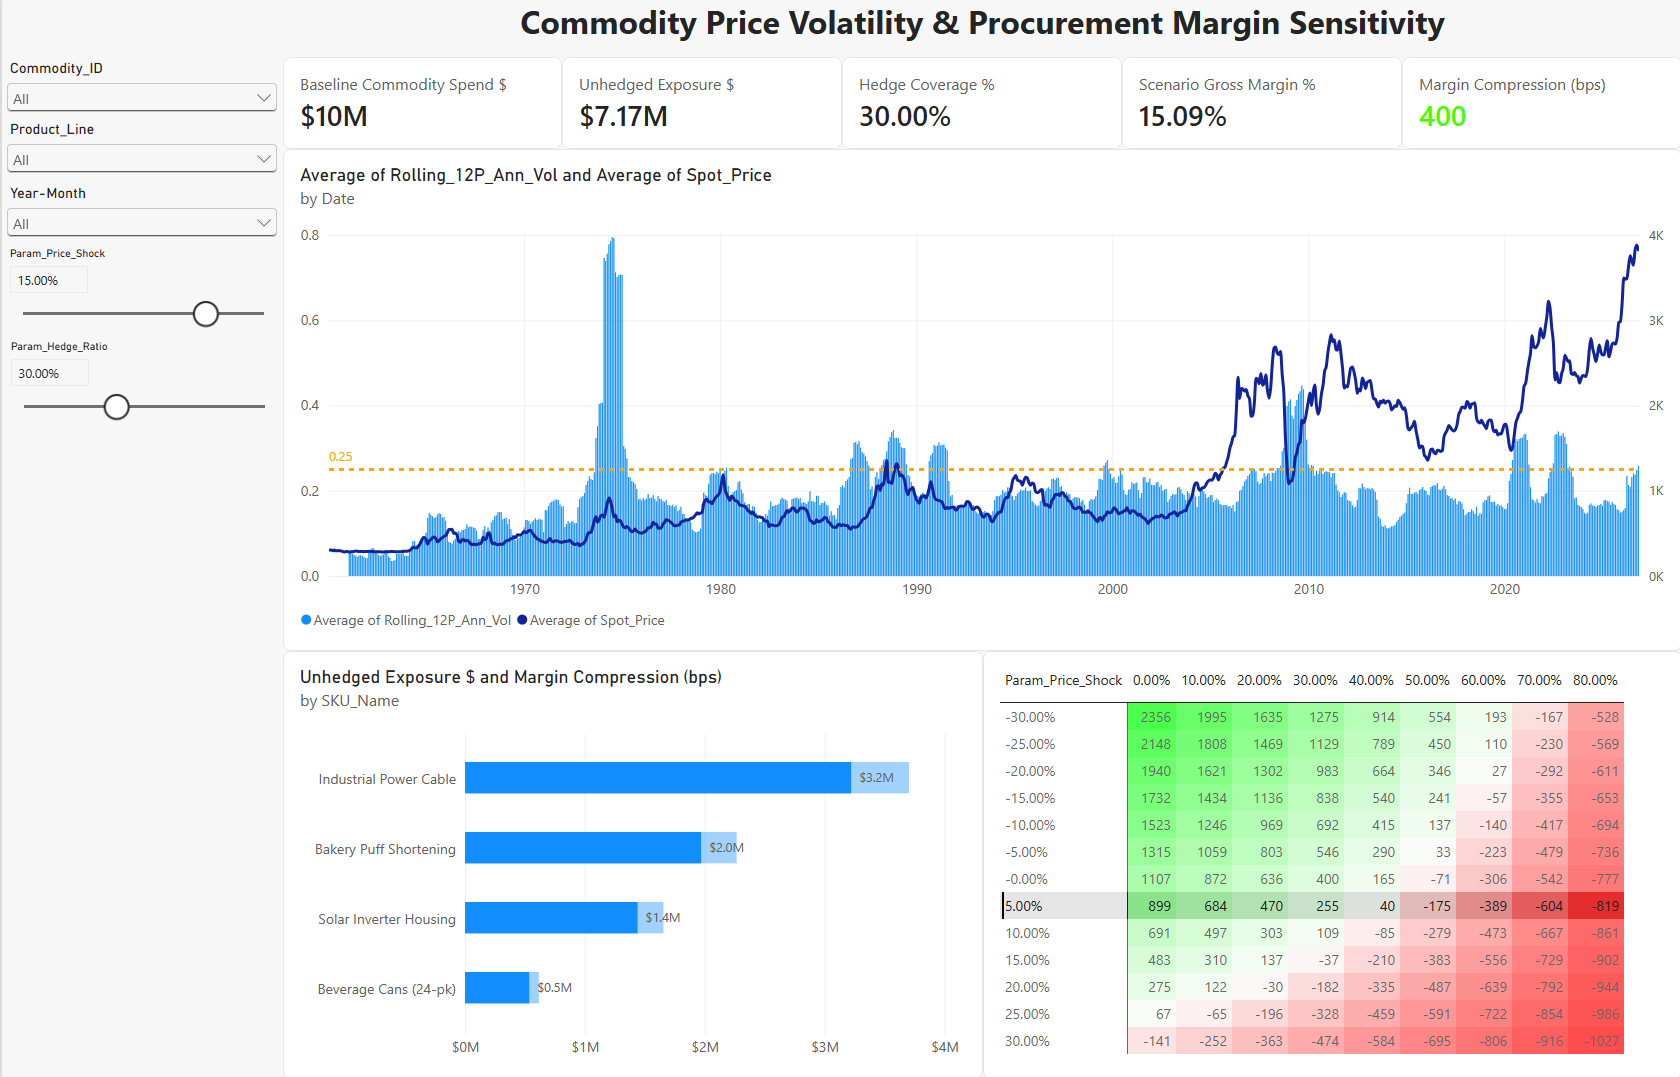

The dashboard page shown, as its layout file describes it:
{"tool":"powerbi","page":{"name":"Page 1","canvas":[1920,1080],"ordinal":0},"visuals":[{"type":"slicer","fields":{"Values":["Dim_Commodity.Commodity_ID"]},"box":[0,60.9,279.8,60.9],"z":2000},{"type":"slicer","fields":{"Values":["Dim_SKU.Product_Line"]},"box":[0,121.7,279.8,63.8],"z":3000},{"type":"slicer","fields":{"Values":["Dim_Date.Year-Month"]},"box":[0,185.5,279.8,62.8],"z":4000},{"type":"slicer","fields":{"Values":["Param_Price_Shock.Param_Price_Shock"]},"box":[0,248.3,279.8,92.3],"z":5000},{"type":"slicer","fields":{"Values":["Param_Hedge_Ratio.Param_Hedge_Ratio"]},"box":[1,340.6,279.8,124.7],"z":6000},{"type":"cardVisual","fields":{"Data":["_Measure.Baseline Commodity Spend $"]},"box":[280.7,57.9,279.8,92.3],"z":7000},{"type":"cardVisual","fields":{"Data":["_Measure.Unhedged Exposure $"]},"box":[560.5,57.9,279.8,92.3],"z":8000},{"type":"cardVisual","fields":{"Data":["_Measure.Hedge Coverage %"]},"box":[840.2,57.9,279.8,92.3],"z":9000},{"type":"cardVisual","fields":{"Data":["_Measure.Scenario Gross Margin %"]},"box":[1120,57.9,279.8,92.3],"z":10000},{"type":"cardVisual","fields":{"Data":["_Measure.Margin Compression (bps)"]},"box":[1399.8,57.9,279.8,92.3],"z":11000},{"type":"lineClusteredColumnComboChart","fields":{"Category":["Dim_Date.Date"],"Y":["Avg(Fact_Prices.Rolling_12P_Ann_Vol)"],"Y2":["Avg(Fact_Prices.Spot_Price)"]},"box":[280.7,150.2,1398.8,501.6],"z":12000},{"type":"clusteredBarChart","fields":{"Category":["Dim_SKU.SKU_Name"],"Y":["_Measure.Unhedged Exposure $"]},"box":[280.7,651.8,699.9,428],"z":13000},{"type":"pivotTable","fields":{"Columns":["Param_Hedge_Ratio.Param_Hedge_Ratio"],"Rows":["Param_Price_Shock.Param_Price_Shock"],"Values":["_Measure.Margin Compression (bps)"]},"box":[980.6,651.8,698.9,428],"z":14000},{"type":"textbox","box":[280.7,0,1398.8,57.9],"z":14001}]}

Visuals, with their boxes on the page's 1920x1080 design canvas (x1, y1, x2, y2). These are canvas units, not pixel positions in the 1680x1077 screenshot, which may show the page scaled, cropped or inside an application window:
slicer - Dim_Commodity.Commodity_ID: 0 61 280 122
slicer - Dim_SKU.Product_Line: 0 122 280 186
slicer - Dim_Date.Year-Month: 0 186 280 248
slicer - Param_Price_Shock.Param_Price_Shock: 0 248 280 341
slicer - Param_Hedge_Ratio.Param_Hedge_Ratio: 1 341 281 465
cardVisual - _Measure.Baseline Commodity Spend $: 281 58 560 150
cardVisual - _Measure.Unhedged Exposure $: 560 58 840 150
cardVisual - _Measure.Hedge Coverage %: 840 58 1120 150
cardVisual - _Measure.Scenario Gross Margin %: 1120 58 1400 150
cardVisual - _Measure.Margin Compression (bps): 1400 58 1680 150
lineClusteredColumnComboChart - Dim_Date.Date x Avg(Fact_Prices.Rolling_12P_Ann_Vol): 281 150 1680 652
clusteredBarChart - Dim_SKU.SKU_Name x _Measure.Unhedged Exposure $: 281 652 981 1080
pivotTable - Param_Hedge_Ratio.Param_Hedge_Ratio x Param_Price_Shock.Param_Price_Shock: 981 652 1680 1080
textbox: 281 0 1680 58
